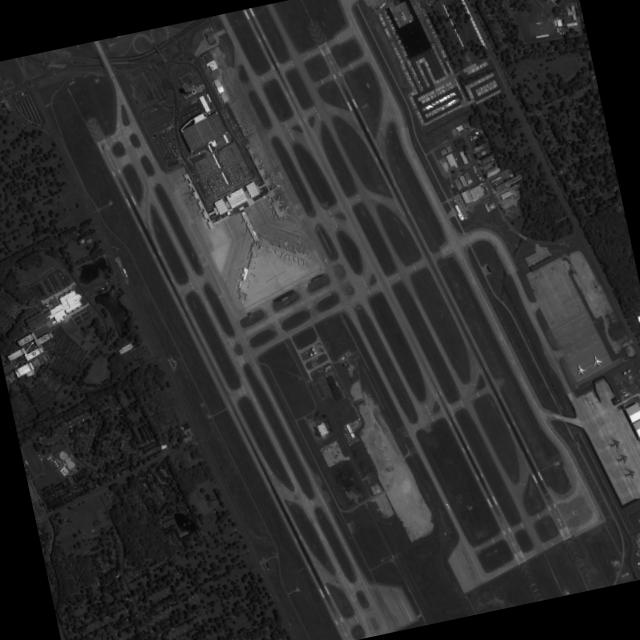plane: (573, 362, 587, 377), (623, 467, 637, 481), (590, 354, 604, 368), (608, 437, 622, 450), (616, 452, 629, 465), (444, 503, 452, 512), (282, 239, 288, 247), (323, 257, 329, 264), (275, 183, 281, 188), (286, 205, 290, 209)
storage-tank: (311, 347, 315, 351), (313, 351, 317, 355), (310, 353, 313, 356), (623, 371, 626, 374), (628, 369, 631, 372)
